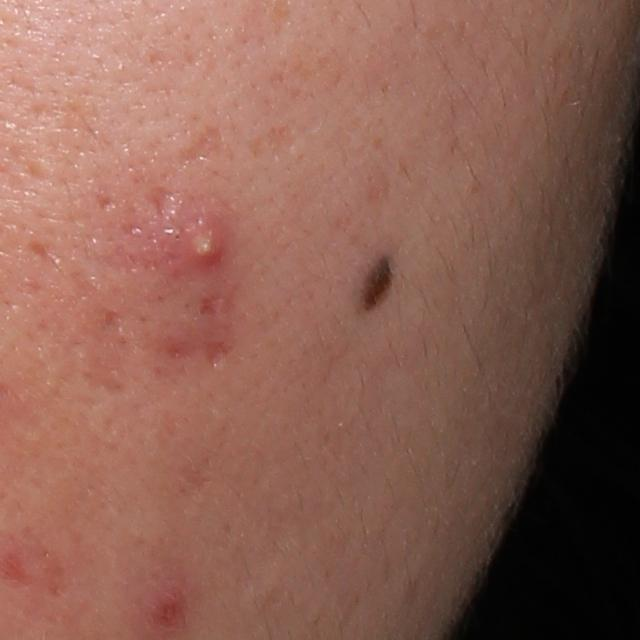atrophic_scar: (178, 122, 232, 169), (246, 125, 300, 160), (140, 183, 183, 219), (26, 239, 61, 272), (205, 338, 235, 373), (162, 336, 193, 369), (196, 294, 224, 317), (101, 309, 120, 330)
nevus: (357, 255, 397, 313)
pustule: (171, 207, 238, 266)
